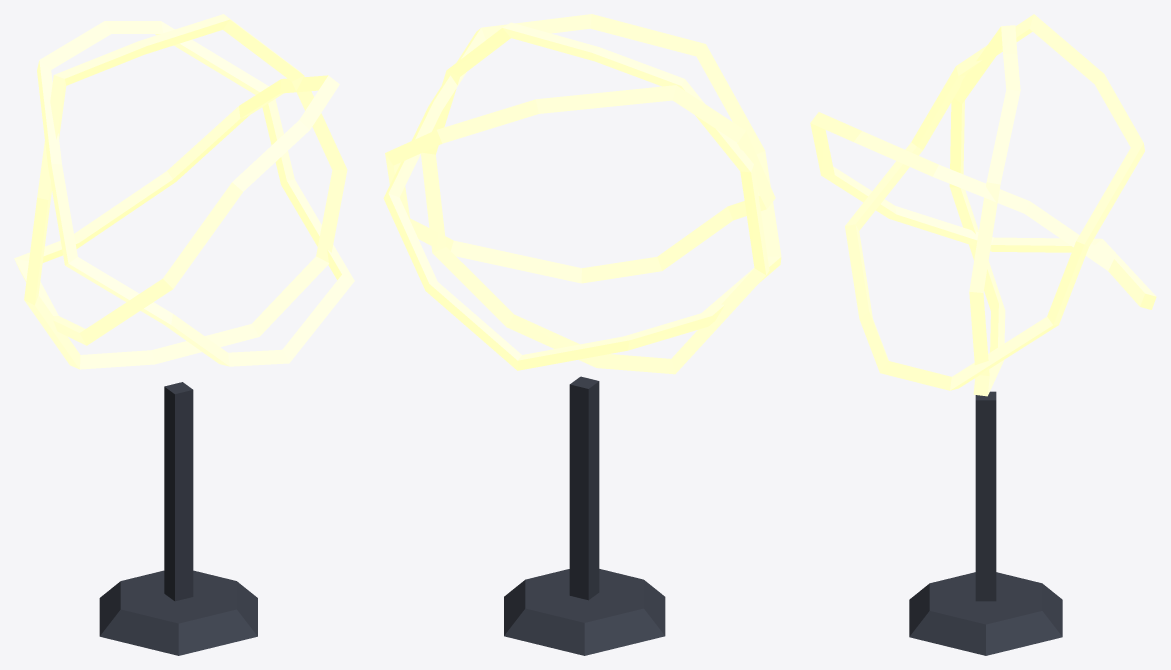
The model's file is Prop_Sign_NeonTumbleweed.fbx.
3 renders of one model, left to right at view 1: azimuth 30°, elevation 25°; view 2: azimuth 150°, elevation 25°; view 3: azimuth 270°, elevation 25°, orthographic. The views are drawn at different scales.
Visible parts, largest first — view 1: Prop_Sign_NeonTumbleweed_Neon, Prop_Sign_NeonTumbleweed_Body; view 2: Prop_Sign_NeonTumbleweed_Neon, Prop_Sign_NeonTumbleweed_Body; view 3: Prop_Sign_NeonTumbleweed_Neon, Prop_Sign_NeonTumbleweed_Body.
Part boxes in pixels (left/top/right/bottom): Prop_Sign_NeonTumbleweed_Neon: left=14, top=14, right=354, bottom=369; Prop_Sign_NeonTumbleweed_Body: left=99, top=382, right=257, bottom=655; Prop_Sign_NeonTumbleweed_Neon: left=383, top=14, right=781, bottom=374; Prop_Sign_NeonTumbleweed_Body: left=504, top=376, right=665, bottom=655; Prop_Sign_NeonTumbleweed_Neon: left=810, top=14, right=1156, bottom=396; Prop_Sign_NeonTumbleweed_Body: left=909, top=391, right=1062, bottom=655.
Bounding box in the file's own units: 1.24 × 2.08 × 1.17.
